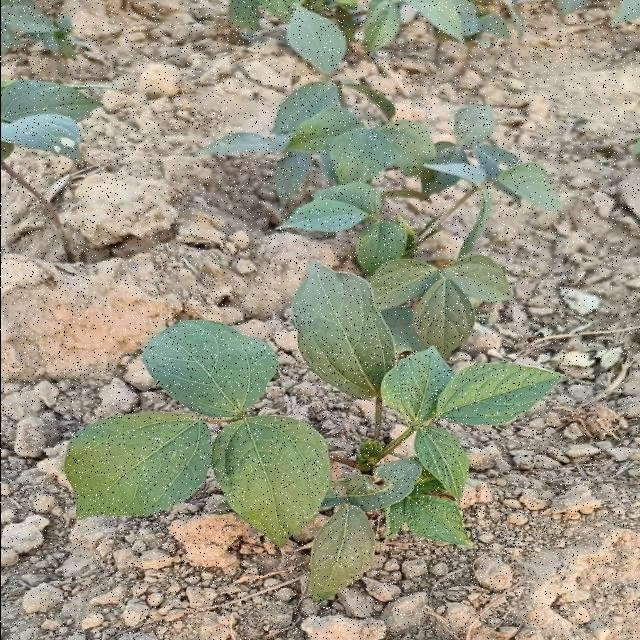plant: (64, 81, 559, 600), (231, 0, 505, 75), (2, 81, 100, 158)
